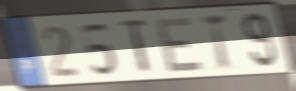2: (41, 24, 80, 79)
5: (78, 21, 119, 77)
9: (242, 11, 279, 70)
E: (154, 14, 206, 75)
T: (198, 12, 233, 73), (119, 16, 153, 77)
